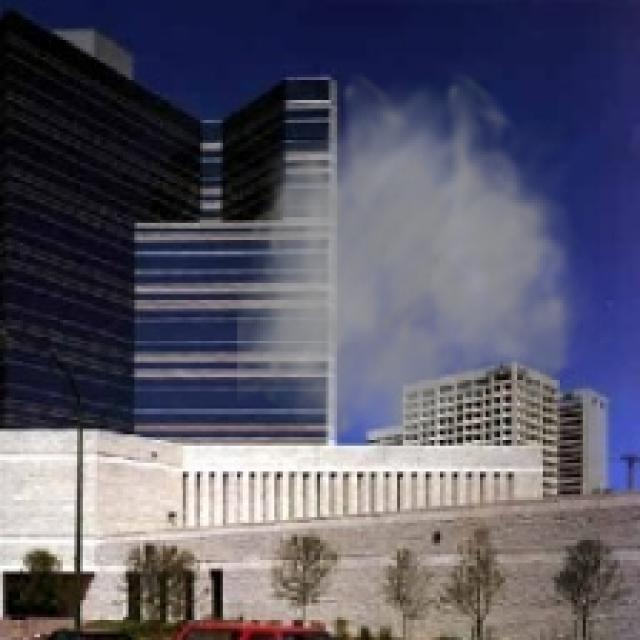smoke: (237, 69, 609, 468)
